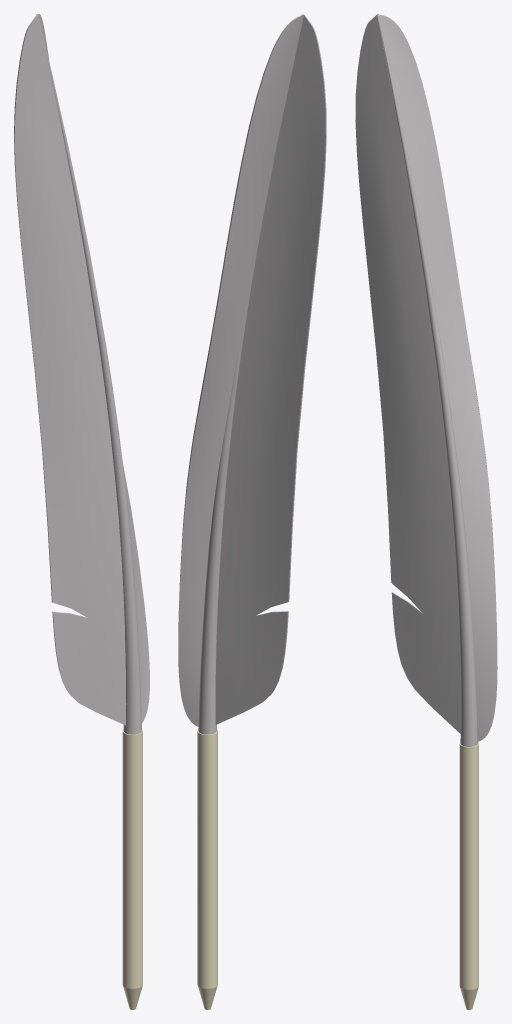
File: 644_羽根ペン.glb
3 renders of one model, left to right at view 1: azimuth 30°, elevation 25°; view 2: azimuth 150°, elevation 25°; view 3: azimuth 330°, elevation 25°, orthographic. The views are drawn at different scales.
Parts seen in each view (by area): view 1: Body; view 2: Body; view 3: Body.
Boxes of the visible parts, <box> form: Body: <box>14,14,149,1009</box>; Body: <box>178,14,326,1009</box>; Body: <box>355,14,497,1009</box>.
Size of the model in its own units: 0.048 by 0.3302 by 0.0156.
